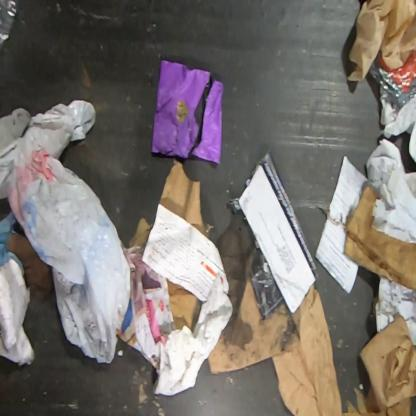cardboard: (207, 208, 415, 415), (343, 184, 415, 293), (157, 158, 215, 241), (166, 278, 198, 331), (128, 217, 154, 248)
soft_plastic: (0, 98, 132, 365), (346, 0, 415, 83), (369, 50, 415, 165), (0, 0, 17, 50)
